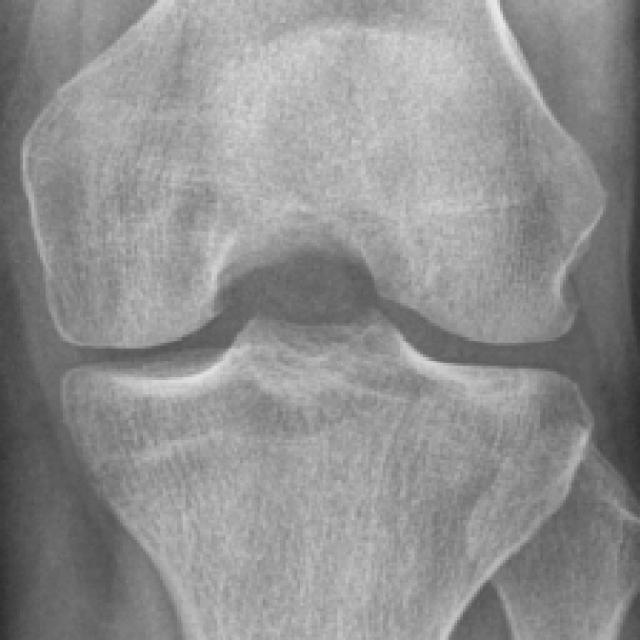femur: (26, 0, 607, 348)
tibia: (62, 314, 594, 640)
